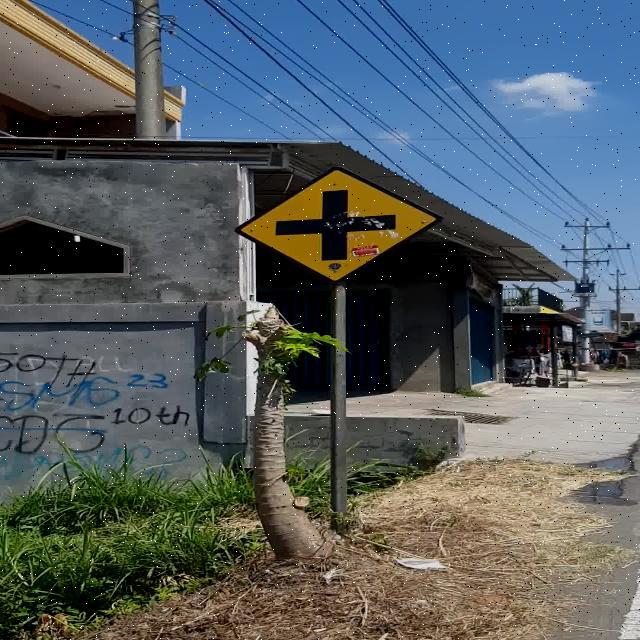Persimpangan 4: (235, 166, 442, 283)
